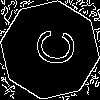C: (25, 25, 77, 68)
